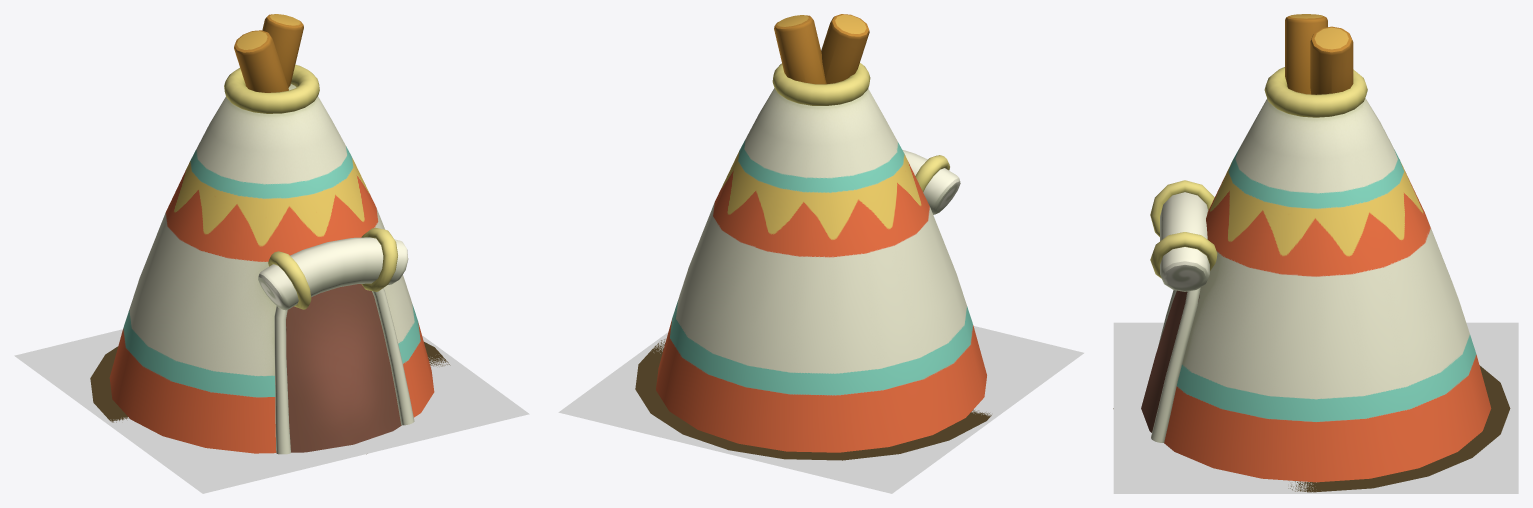
The model's file is VK_PirTent.fbx.
3 renders of one model, left to right at view 1: azimuth 30°, elevation 25°; view 2: azimuth 150°, elevation 25°; view 3: azimuth 270°, elevation 25°, orthographic. The views are drawn at different scales.
Visible parts, largest first — view 1: polySurface3, PirTent_Grid_Large, Shadow; view 2: polySurface3, PirTent_Grid_Large, Shadow; view 3: polySurface3, PirTent_Grid_Large, Shadow.
Boxes of the visible parts, x1,y1,x2,y2 form: polySurface3: [109, 14, 434, 454]; PirTent_Grid_Large: [14, 329, 529, 493]; Shadow: [90, 342, 450, 454]; polySurface3: [656, 14, 986, 452]; PirTent_Grid_Large: [558, 326, 1083, 493]; Shadow: [635, 339, 991, 460]; polySurface3: [1141, 14, 1491, 482]; PirTent_Grid_Large: [1113, 322, 1518, 493]; Shadow: [1113, 365, 1510, 492].
Bounding box in the file's own units: 3 × 3.14 × 3.
